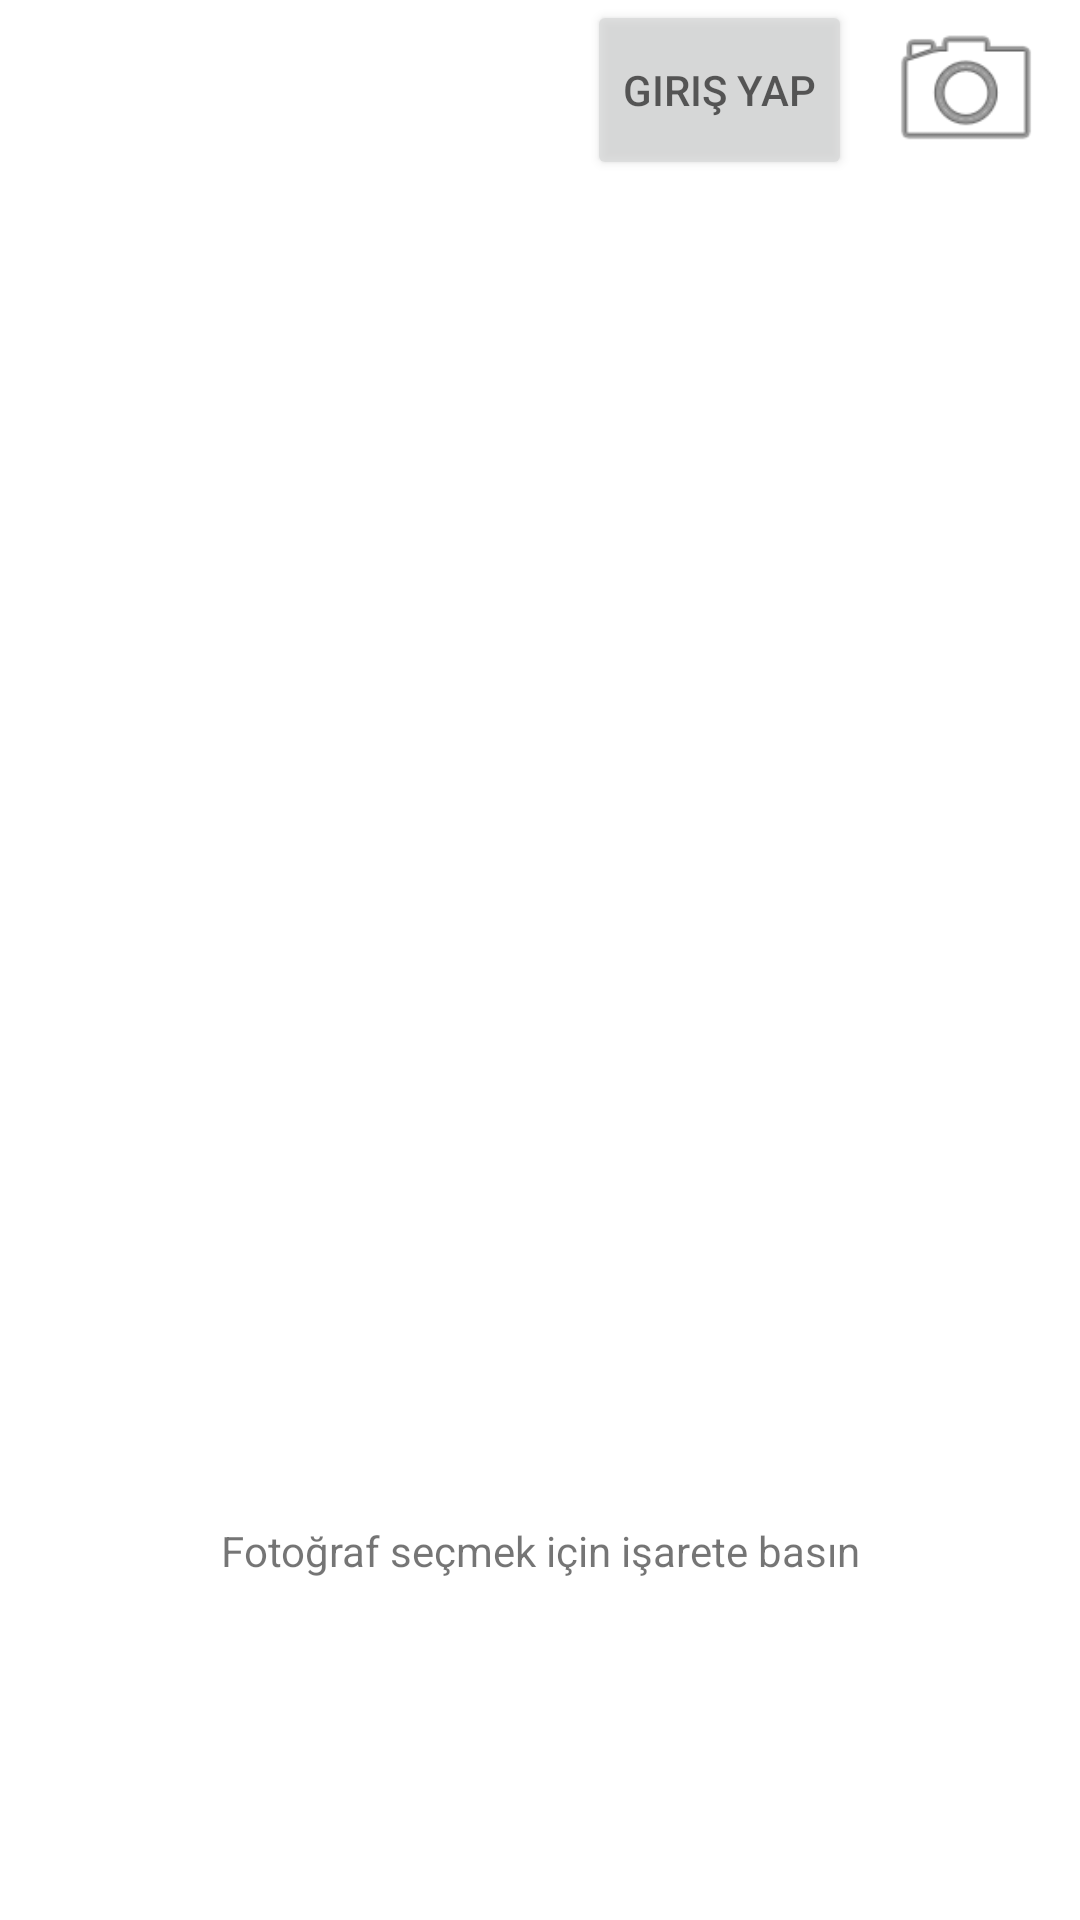

Icons on this 1080*1920 Android screen, each with the point to tap as [x,y]:
camera: [966,87]
